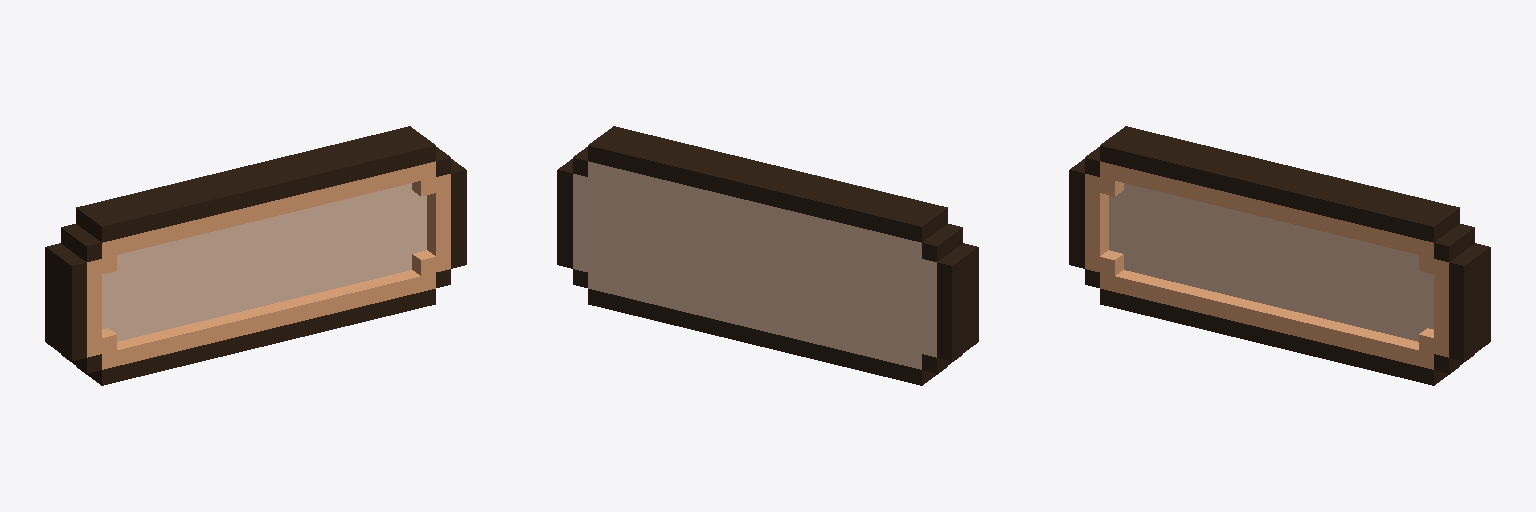
The picture shows the model from 3 angles: view 1: azimuth 30°, elevation 25°; view 2: azimuth 150°, elevation 25°; view 3: azimuth 330°, elevation 25°; orthographic projection.
Visible parts, largest first — view 1: object 1; view 2: object 1; view 3: object 1.
Part boxes in pixels (x1,y1,x2,y2): object 1: (45,126,466,385); object 1: (557,126,978,385); object 1: (1069,126,1490,385).
Bounding box in the file's own units: 2.6 × 1 × 0.3.
Materials: 1 (1 with a texture image).